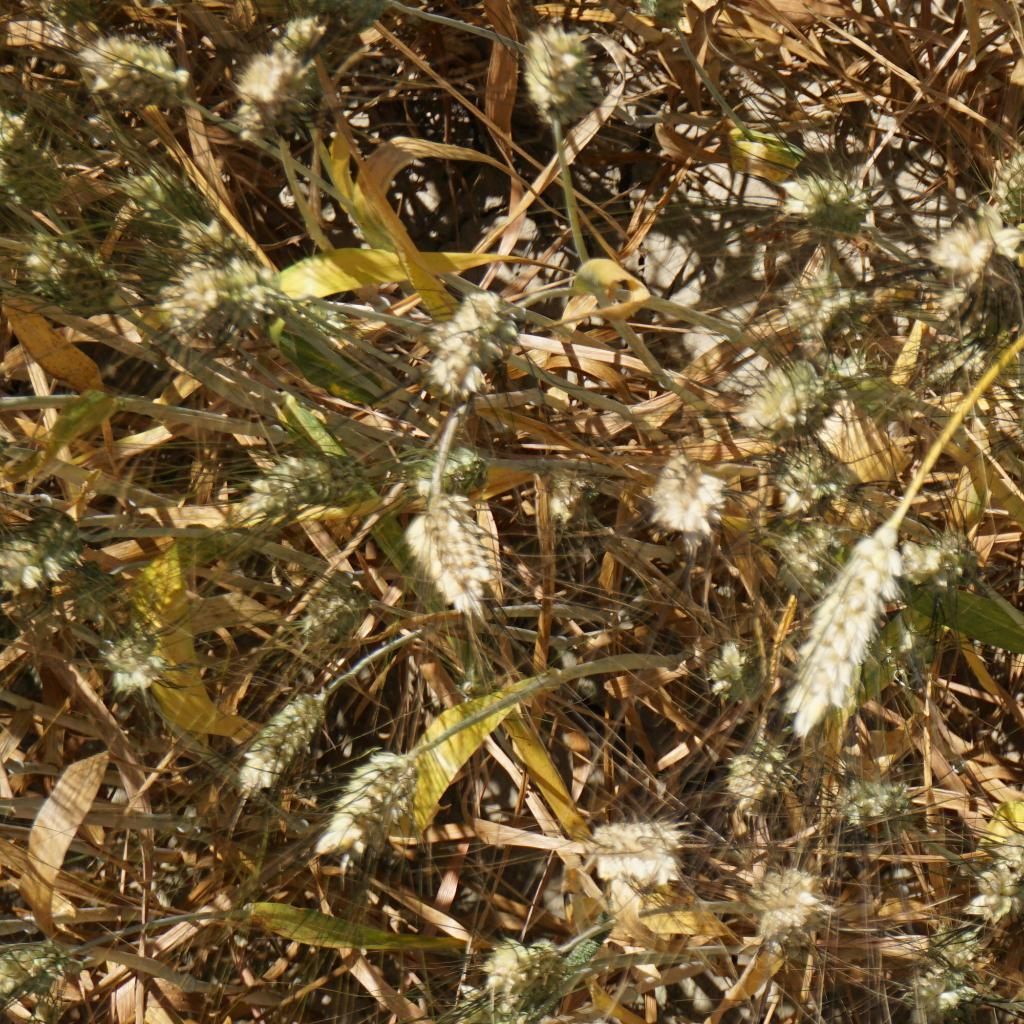0-0: (792, 529, 909, 706), (403, 486, 502, 629), (312, 748, 426, 863), (418, 283, 520, 400), (226, 686, 325, 792), (519, 29, 614, 138), (227, 51, 326, 150), (631, 436, 727, 535), (148, 257, 268, 329), (81, 34, 190, 107), (586, 817, 692, 890), (747, 862, 833, 950), (20, 245, 123, 317), (931, 201, 1016, 279), (736, 354, 829, 425), (772, 273, 865, 343), (245, 448, 364, 502), (97, 622, 179, 700), (762, 525, 855, 591), (0, 508, 90, 576), (107, 159, 200, 223), (392, 434, 485, 498), (759, 449, 852, 512), (693, 630, 766, 709), (820, 754, 909, 818), (468, 939, 560, 999), (788, 176, 873, 237), (290, 570, 365, 637), (897, 530, 986, 586), (0, 940, 74, 1007), (0, 134, 68, 205), (707, 739, 780, 803), (911, 912, 983, 975), (906, 963, 980, 1024), (921, 333, 993, 395), (976, 843, 1024, 915), (534, 468, 595, 524), (984, 130, 1024, 209), (251, 11, 330, 45), (174, 215, 233, 256), (471, 1003, 565, 1024), (31, 993, 71, 1024)
